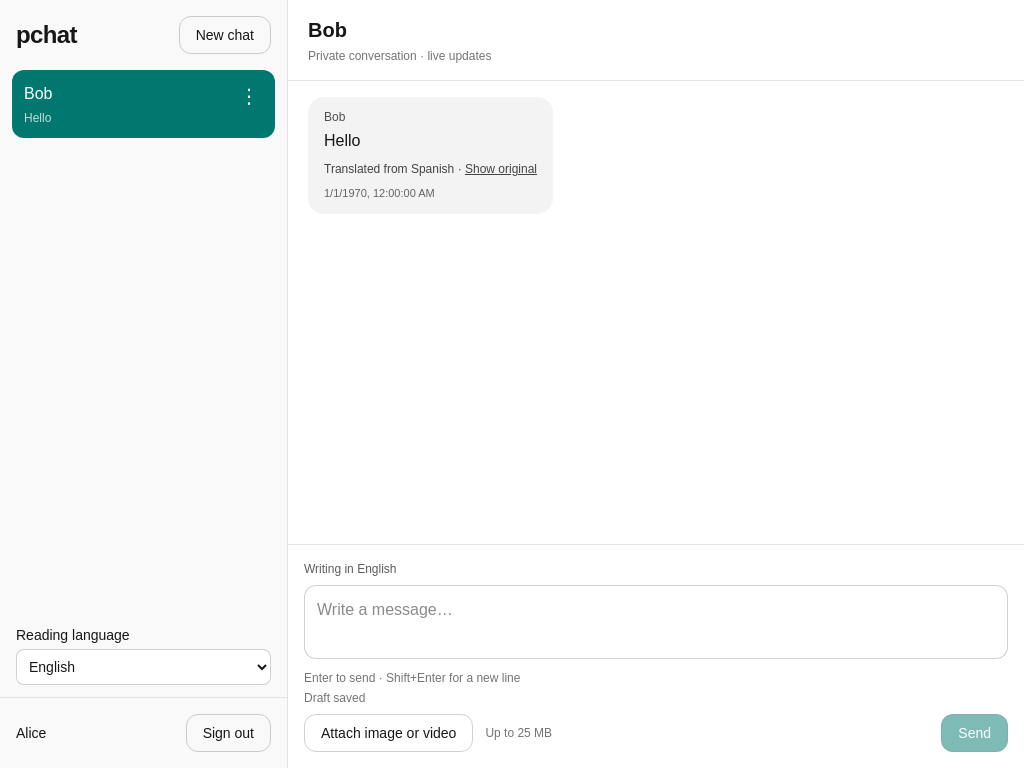
Test case: conversation menus save Spanish without navigation and translated messages reveal their original
The width and height of the screenshot is (1024, 768).
Expected: the text "Hello" below "Private conversation · live updates" is shown, [324,132,360,149]
Expected: the dropdown labelled "Reading language" shows "English", [16,649,271,685]
Step 1. Click the button "Show original" → (501, 169), box [465,161,537,177]
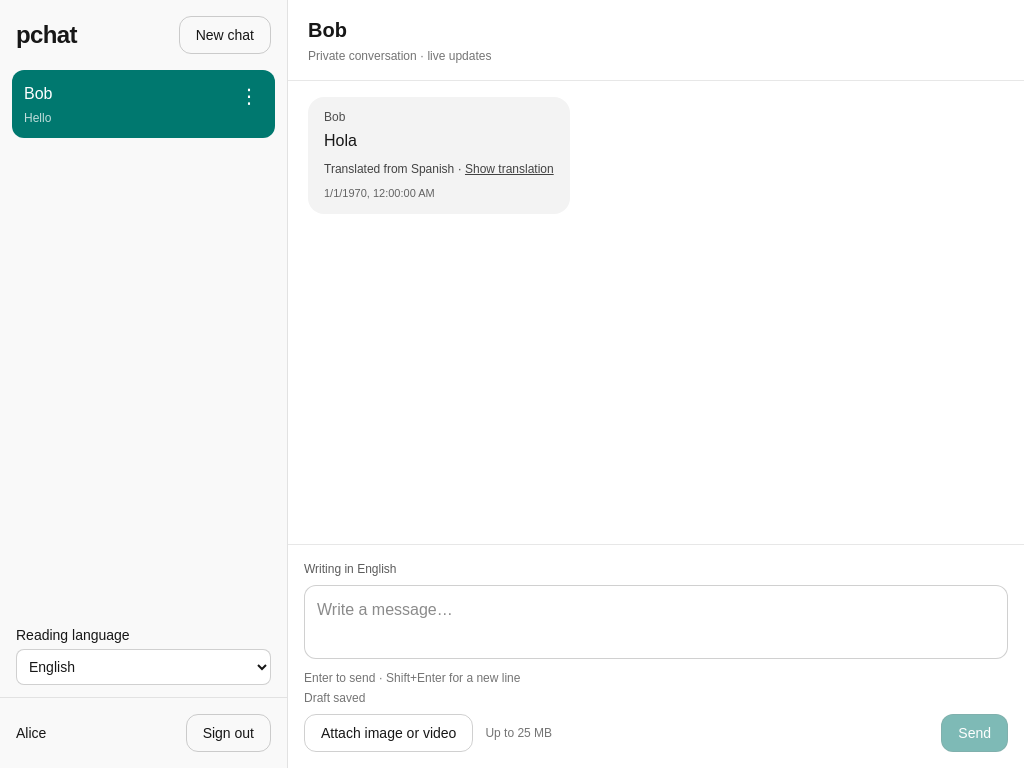
Expected: the text "Hola" is shown, [324,132,357,149]
Step 2. Click the button "Show translation" → (509, 169), box [465,161,554,177]
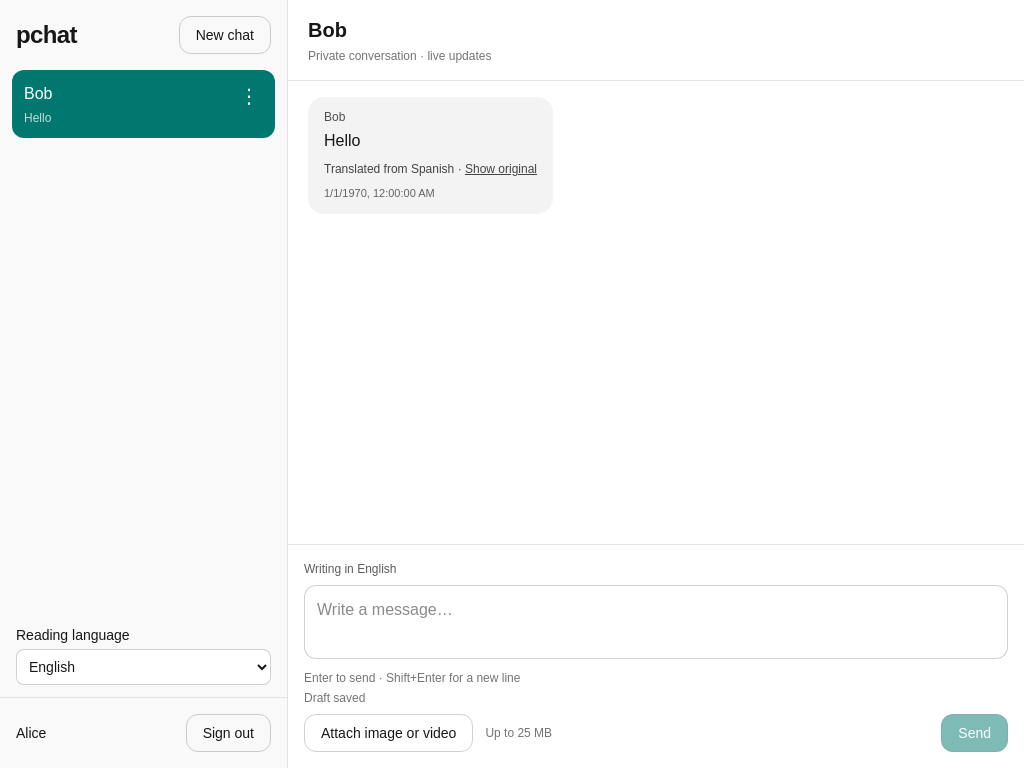
Step 3. Click the heading named "Options for Bob" → (249, 96), box [239,85,259,107]
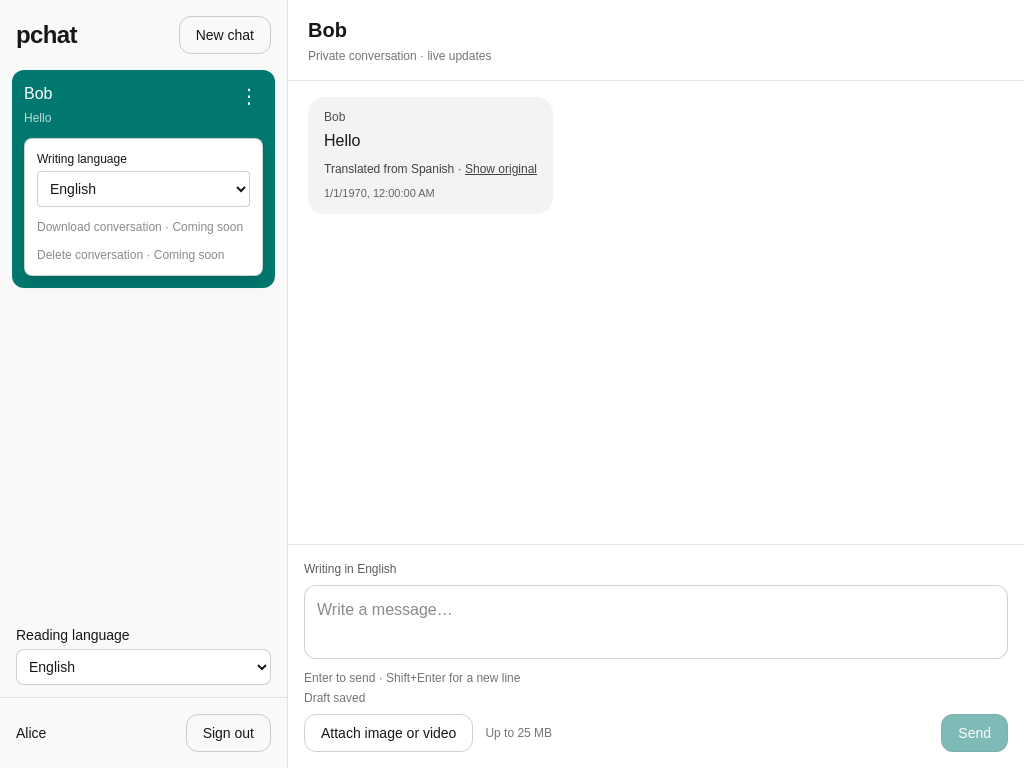
Expected: the button "Download conversation · Coming soon" is disabled, [37,219,243,235]
Step 4. Select "Español" in the dropdown named "Writing language for Bob" → (144, 189), box [37,171,250,207]
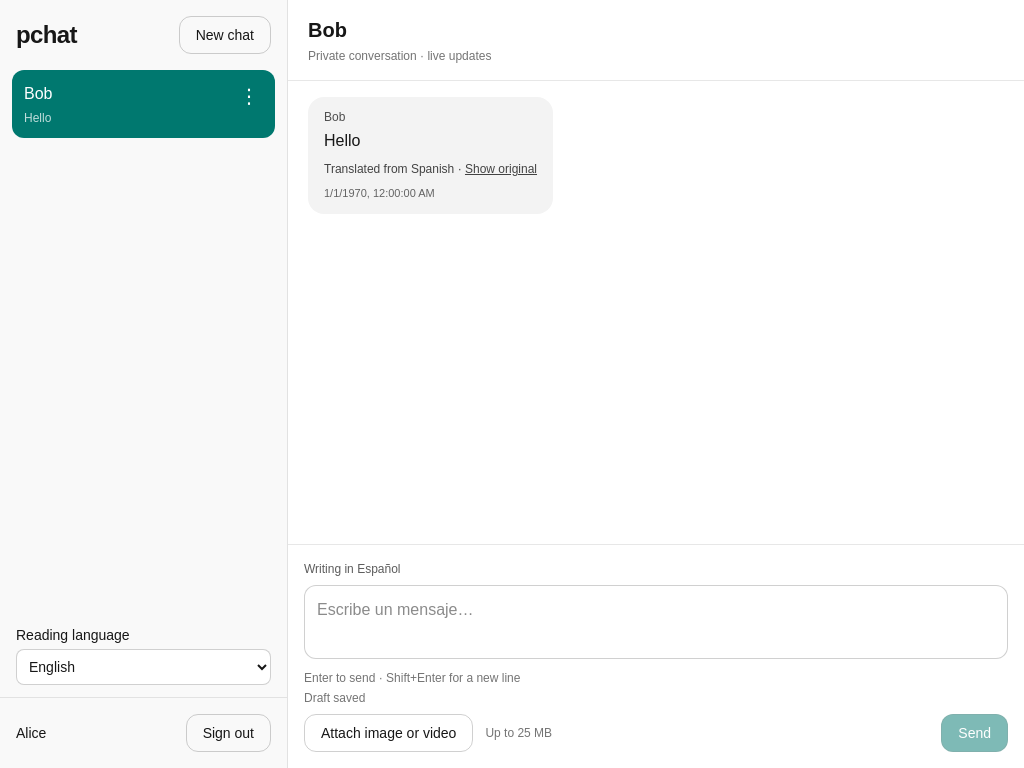
Expected: the text "Writing in Español" is shown, [304,562,400,576]
